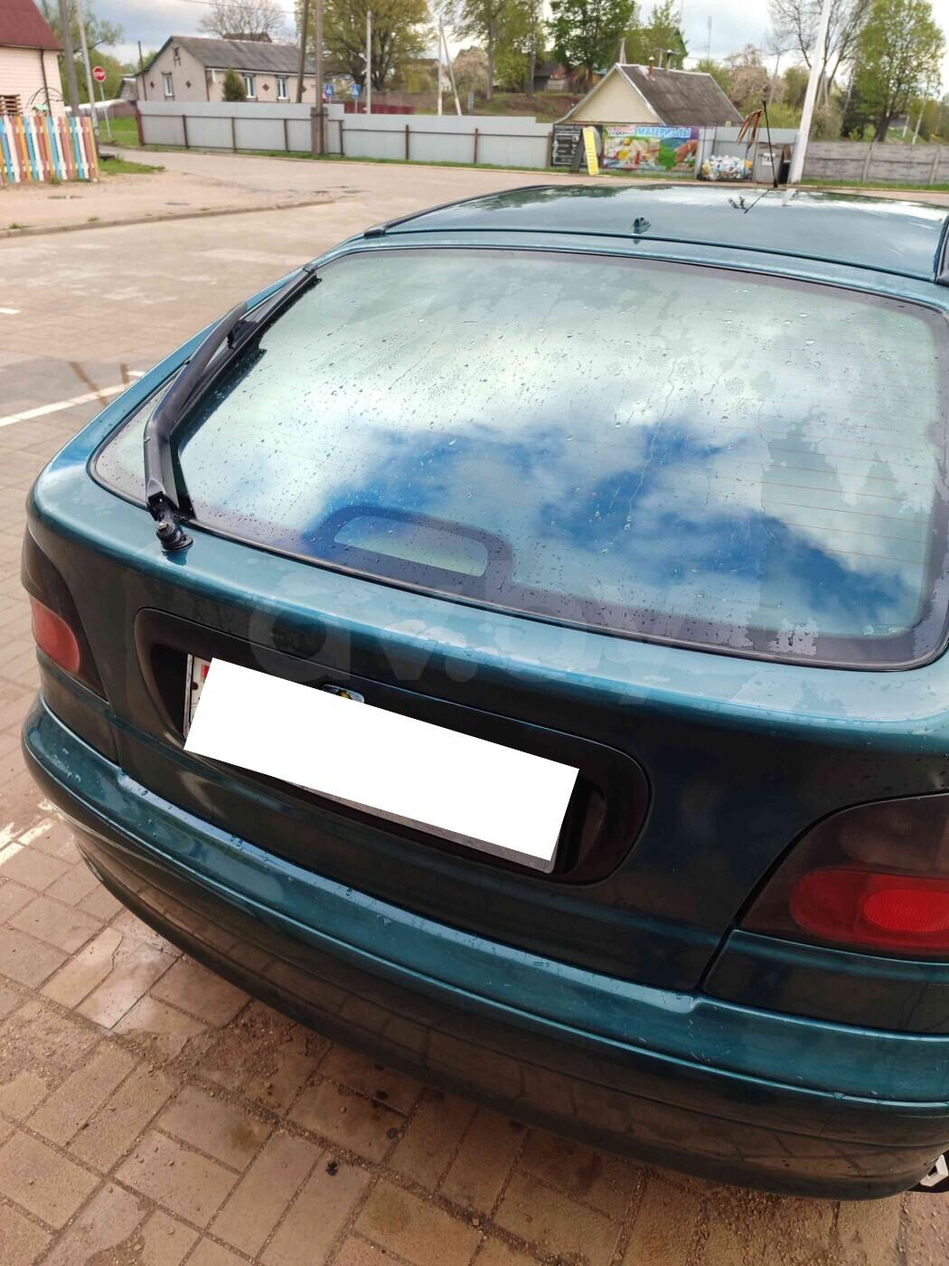Megane_1995-1999: (0, 166, 949, 1210)
